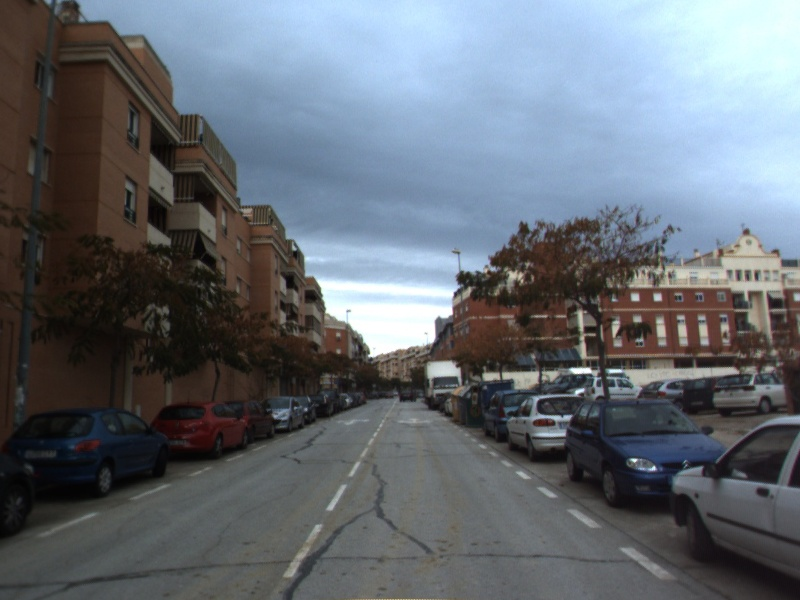STRAIGHT_LEFT_RIGHT: (395, 416, 435, 426)
